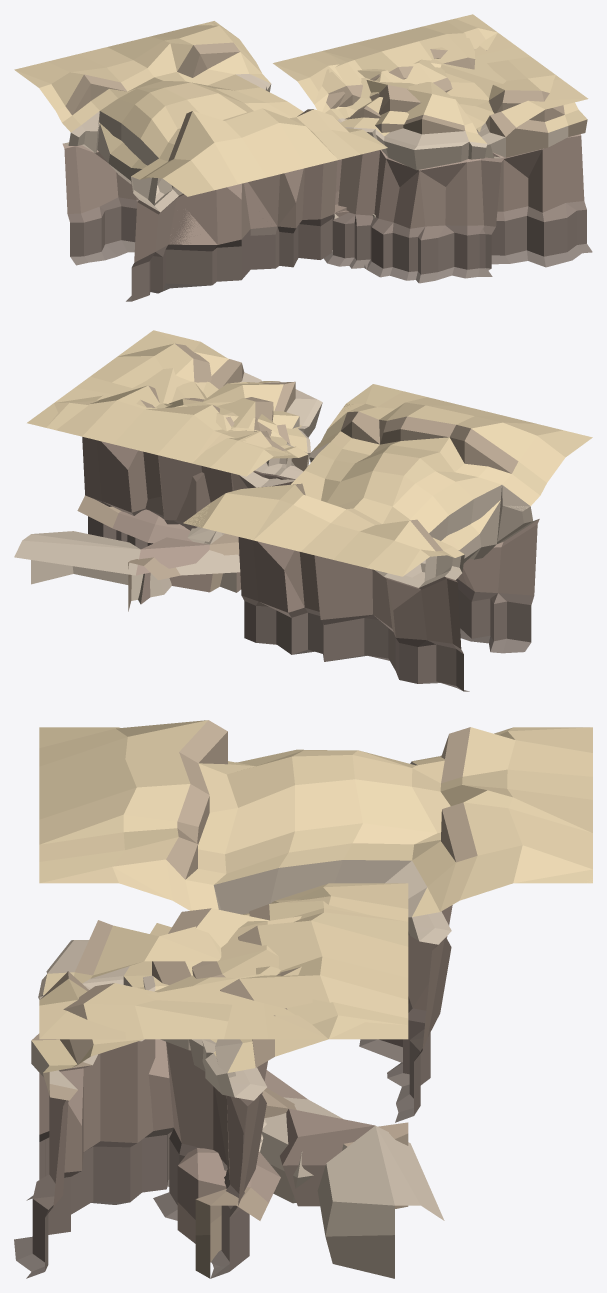
The model's file is Cliff_pack.gltf.
3 renders of one model, top to bottom at view 1: azimuth 30°, elevation 25°; view 2: azimuth 150°, elevation 25°; view 3: azimuth 270°, elevation 25°, orthographic. The views are drawn at different scales.
Parts seen in each view (by area): view 1: Clifftile_pass2_mesh, Clifftile_convex_mesh, Clifftile_pass_mesh, Clifftile_diagonal_mesh, Clifftile_straight2_mesh, Clifftile_concave_mesh, Clifftile_straight3_mesh, Clifftile_straight1_mesh; view 2: Clifftile_pass2_mesh, Clifftile_pass_mesh, Clifftile_straight3_mesh, Clifftile_straight2_mesh, Rocktile_diagonal_mesh, Clifftile_diagonal_mesh, Clifftile_concave_mesh, Clifftile_convex_mesh, Rocktile_convex_mesh, Rocktile_straight2_mesh, Clifftile_straight1_mesh; view 3: Clifftile_pass2_mesh, Clifftile_diagonal_mesh, Clifftile_straight2_mesh, Rocktile_diagonal_mesh, Clifftile_pass_mesh, Clifftile_straight1_mesh, Clifftile_concave_mesh, Clifftile_straight3_mesh, Clifftile_convex_mesh, Rocktile_straight2_mesh, Rocktile_convex_mesh.
Part boxes in pixels (left/top/right/bottom): Clifftile_pass2_mesh: left=14, top=21, right=384, bottom=301; Clifftile_convex_mesh: left=323, top=82, right=492, bottom=283; Clifftile_pass_mesh: left=21, top=21, right=387, bottom=301; Clifftile_diagonal_mesh: left=336, top=56, right=592, bottom=269; Clifftile_straight2_mesh: left=314, top=14, right=497, bottom=111; Clifftile_concave_mesh: left=370, top=33, right=588, bottom=270; Clifftile_straight3_mesh: left=273, top=18, right=497, bottom=214; Clifftile_straight1_mesh: left=332, top=33, right=497, bottom=251; Clifftile_pass2_mesh: left=183, top=384, right=592, bottom=691; Clifftile_pass_mesh: left=184, top=384, right=539, bottom=691; Clifftile_straight3_mesh: left=46, top=399, right=307, bottom=549; Clifftile_straight2_mesh: left=27, top=385, right=309, bottom=545; Rocktile_diagonal_mesh: left=14, top=531, right=239, bottom=604; Clifftile_diagonal_mesh: left=90, top=343, right=308, bottom=471; Clifftile_concave_mesh: left=54, top=330, right=297, bottom=488; Clifftile_convex_mesh: left=202, top=381, right=322, bottom=456; Rocktile_convex_mesh: left=128, top=536, right=240, bottom=611; Rocktile_straight2_mesh: left=77, top=495, right=222, bottom=544; Clifftile_straight1_mesh: left=55, top=395, right=307, bottom=453; Clifftile_pass2_mesh: left=39, top=720, right=592, bottom=1122; Clifftile_diagonal_mesh: left=14, top=908, right=269, bottom=1278; Clifftile_straight2_mesh: left=189, top=896, right=408, bottom=1271; Rocktile_diagonal_mesh: left=262, top=1088, right=444, bottom=1278; Clifftile_pass_mesh: left=39, top=727, right=592, bottom=1115; Clifftile_straight1_mesh: left=143, top=916, right=328, bottom=1278; Clifftile_concave_mesh: left=39, top=966, right=327, bottom=1192; Clifftile_straight3_mesh: left=210, top=883, right=408, bottom=1278; Clifftile_convex_mesh: left=26, top=920, right=221, bottom=1200; Rocktile_straight2_mesh: left=177, top=1118, right=280, bottom=1278; Rocktile_convex_mesh: left=260, top=1070, right=408, bottom=1208.
Bounding box in the file's own units: 40 × 17.46 × 31.37.
Materials: 1 (1 with a texture image).
